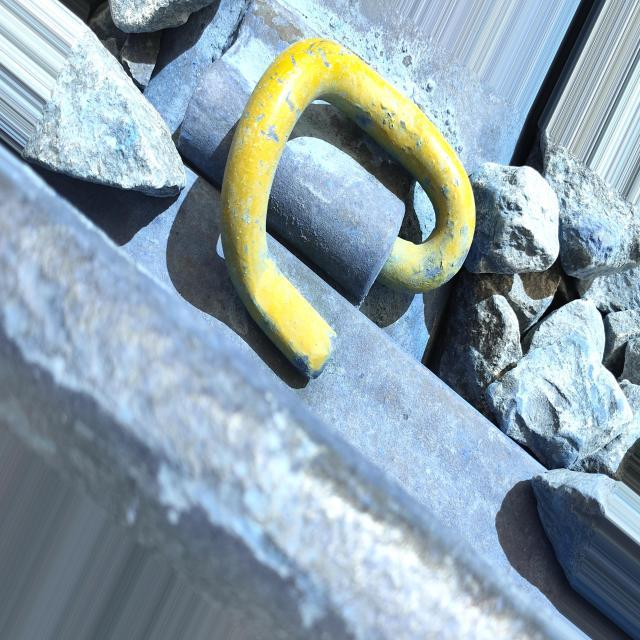Good Fasteners: (220, 38, 475, 378), (422, 309, 444, 364)
